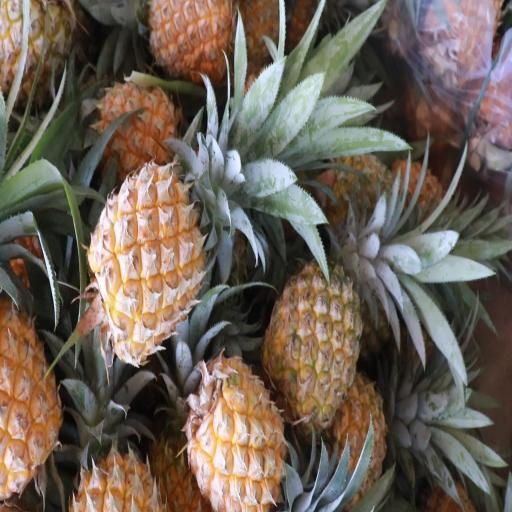------------------------------: (269, 266, 361, 425)
Pineapple - v8 v1: (93, 172, 204, 363), (186, 355, 284, 512), (62, 375, 160, 512), (0, 314, 56, 494), (92, 82, 179, 169), (148, 0, 230, 82)
